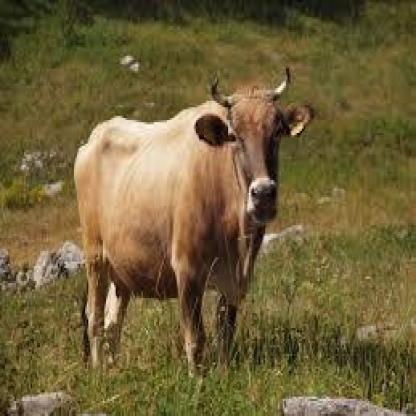cow: (74, 91, 316, 383)
